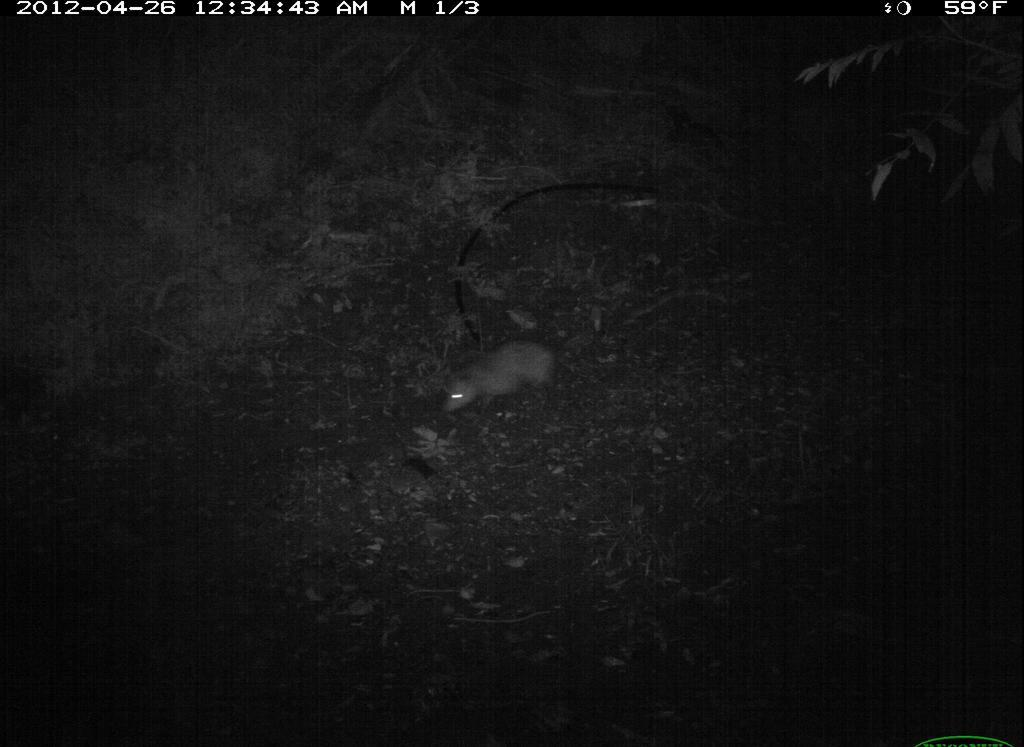opossum: (432, 321, 610, 424)
